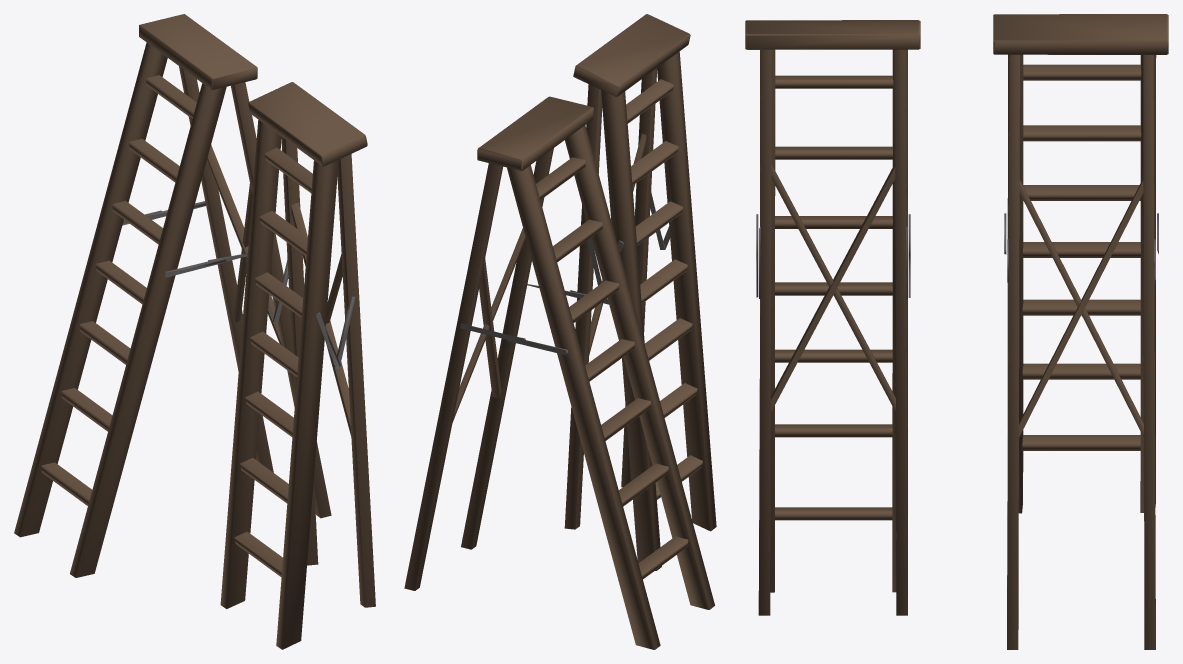
Rendered from old-ladder.lod0.glb.
3 views of the same model, side by side, from view 1: azimuth 30°, elevation 25°; view 2: azimuth 150°, elevation 25°; view 3: azimuth 270°, elevation 25° (orthographic). The views are drawn at different scales.
Parts seen in each view (by area): view 1: Object_2; view 2: Object_2; view 3: Object_2.
Part boxes in pixels (left/top/right/bottom): Object_2: left=14, top=14, right=375, bottom=649; Object_2: left=404, top=14, right=716, bottom=649; Object_2: left=745, top=14, right=1168, bottom=649.
Size of the model in its own units: 1.71 by 3.2 by 2.06.
